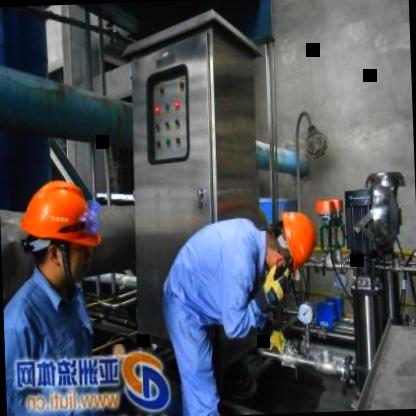helmet: (13, 174, 102, 290), (262, 211, 318, 273)
